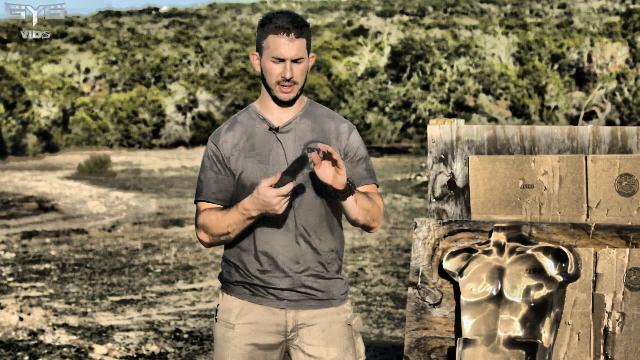knife: (252, 147, 312, 217)
